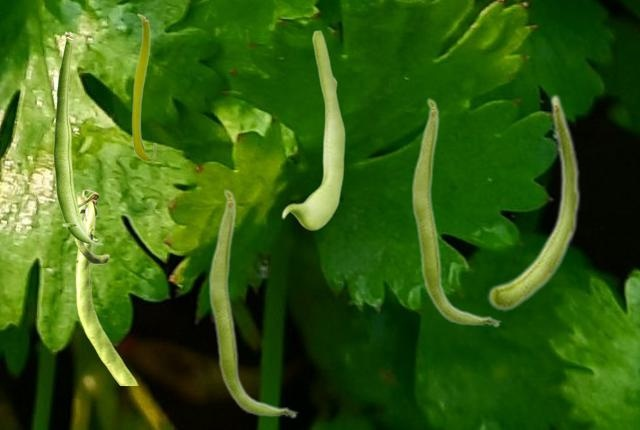french_bean: (410, 97, 500, 327), (207, 188, 297, 418), (487, 93, 580, 310), (281, 29, 344, 229), (74, 189, 137, 384), (53, 31, 103, 244), (131, 13, 155, 161)
